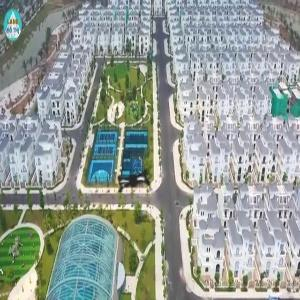drone: (73, 124, 188, 239)
